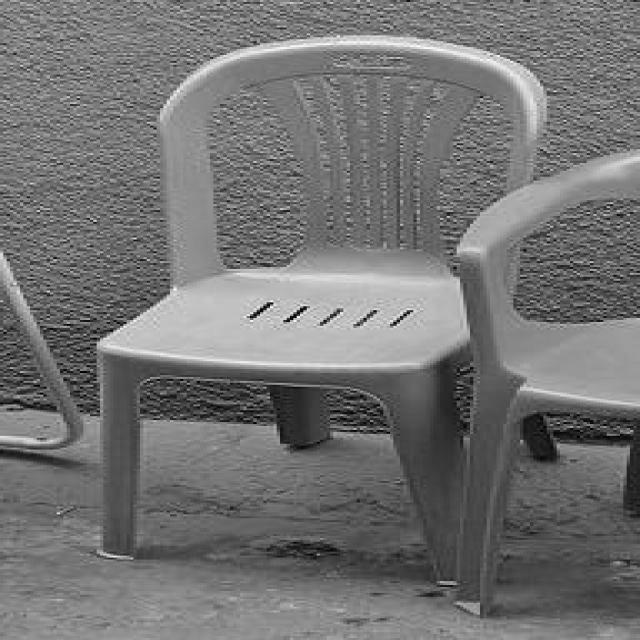chair: (88, 41, 570, 585), (446, 124, 636, 626)
